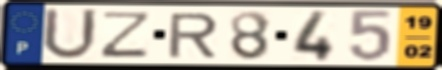4: (290, 9, 337, 64)
5: (347, 8, 393, 65)
8: (228, 10, 272, 61)
R: (165, 11, 221, 59)
U: (40, 6, 100, 62)
Z: (97, 10, 155, 59)
